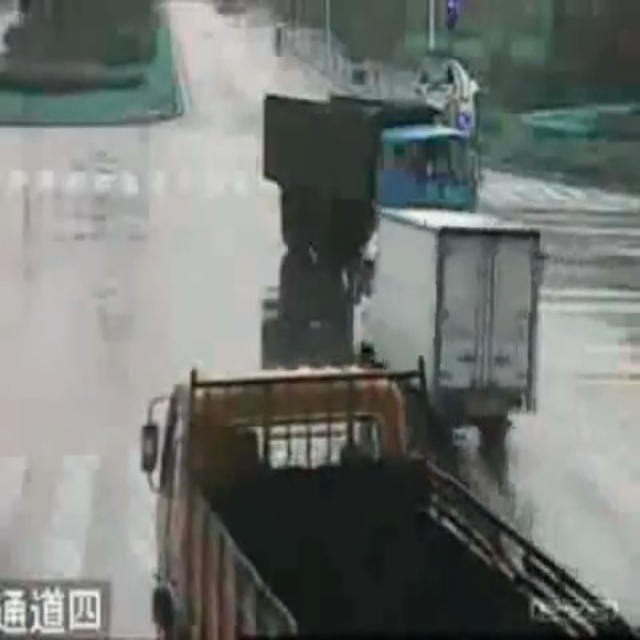acc: (235, 39, 514, 262)
